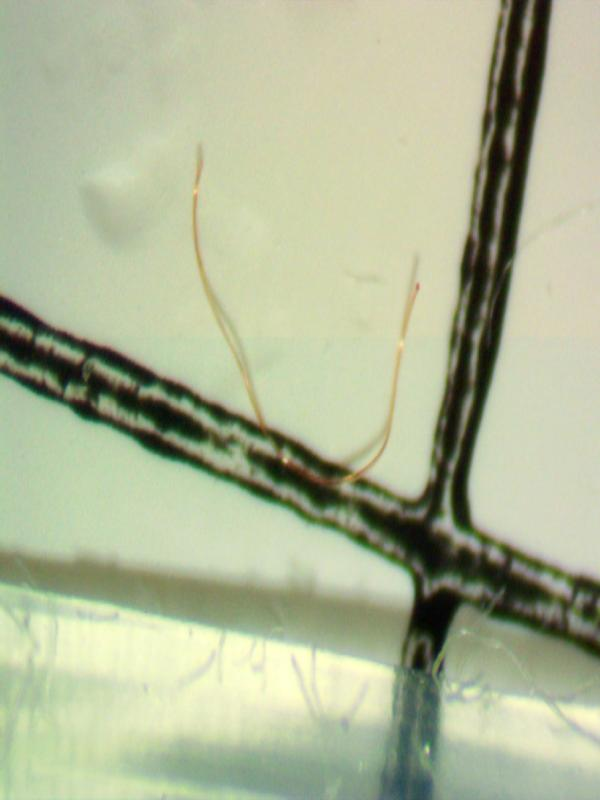microplastic: (1, 2, 597, 795)
